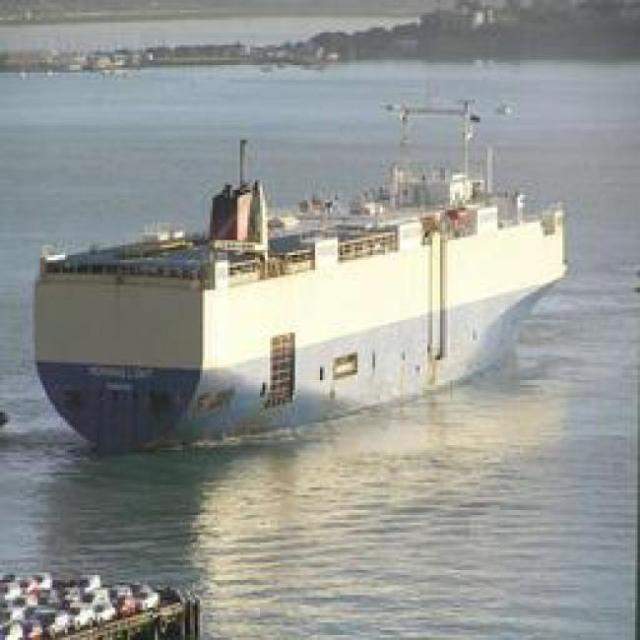boat: (31, 175, 566, 437)
